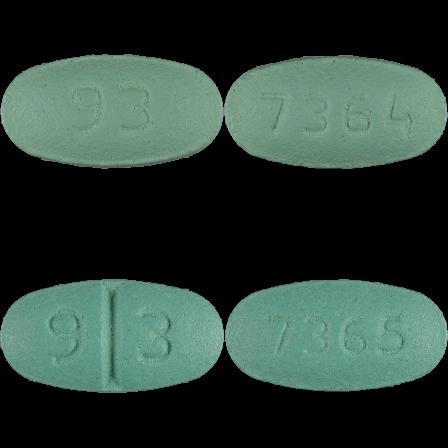68645-407: (0, 0, 224, 224)
